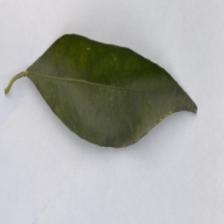healthy: (24, 32, 201, 150)
